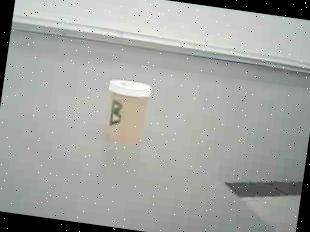Bottle B: (92, 72, 160, 152)
